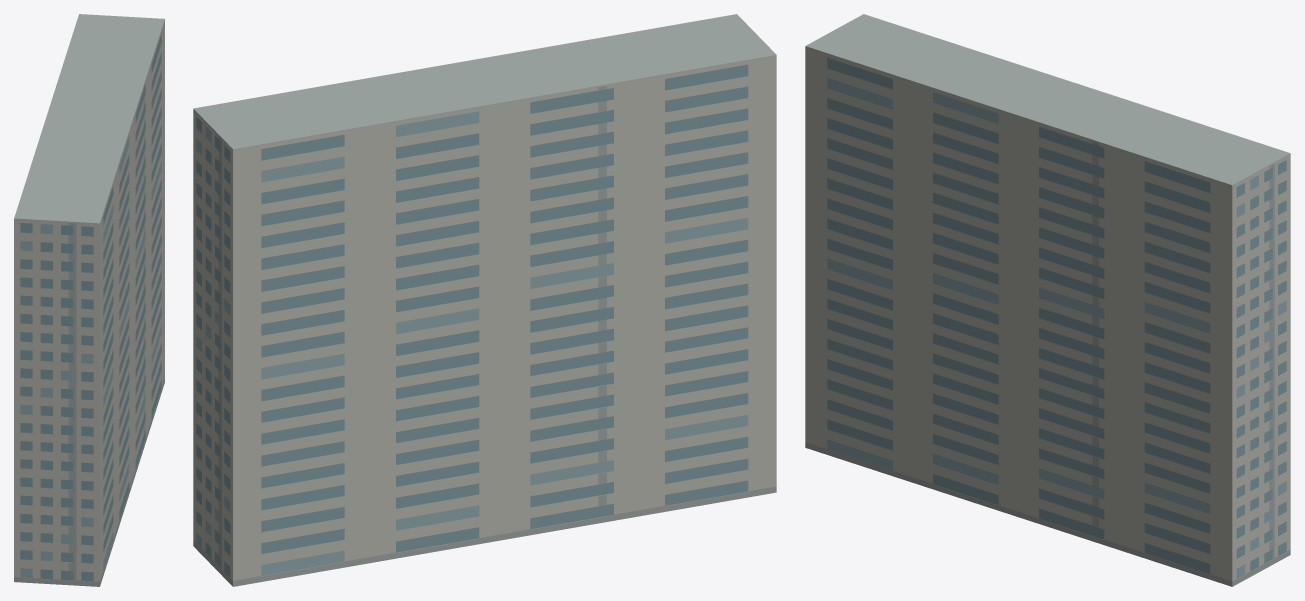
File: residential-5feafbd5-9693-4d1a-ac47-863089721488.glb
3 renders of one model, left to right at view 1: azimuth 30°, elevation 25°; view 2: azimuth 150°, elevation 25°; view 3: azimuth 270°, elevation 25°, orthographic. The views are drawn at different scales.
Visible parts, largest first — view 1: residential-5feafbd5-9693-4d1a-ac47-863089721488.tmp; view 2: residential-5feafbd5-9693-4d1a-ac47-863089721488.tmp; view 3: residential-5feafbd5-9693-4d1a-ac47-863089721488.tmp.
Part boxes in pixels (x1=…): residential-5feafbd5-9693-4d1a-ac47-863089721488.tmp: x1=14, y1=14, x2=164, y2=586; residential-5feafbd5-9693-4d1a-ac47-863089721488.tmp: x1=193, y1=14, x2=776, y2=586; residential-5feafbd5-9693-4d1a-ac47-863089721488.tmp: x1=805, y1=14, x2=1290, y2=586.
Bounding box in the file's own units: 55.77 × 61 × 66.81.
